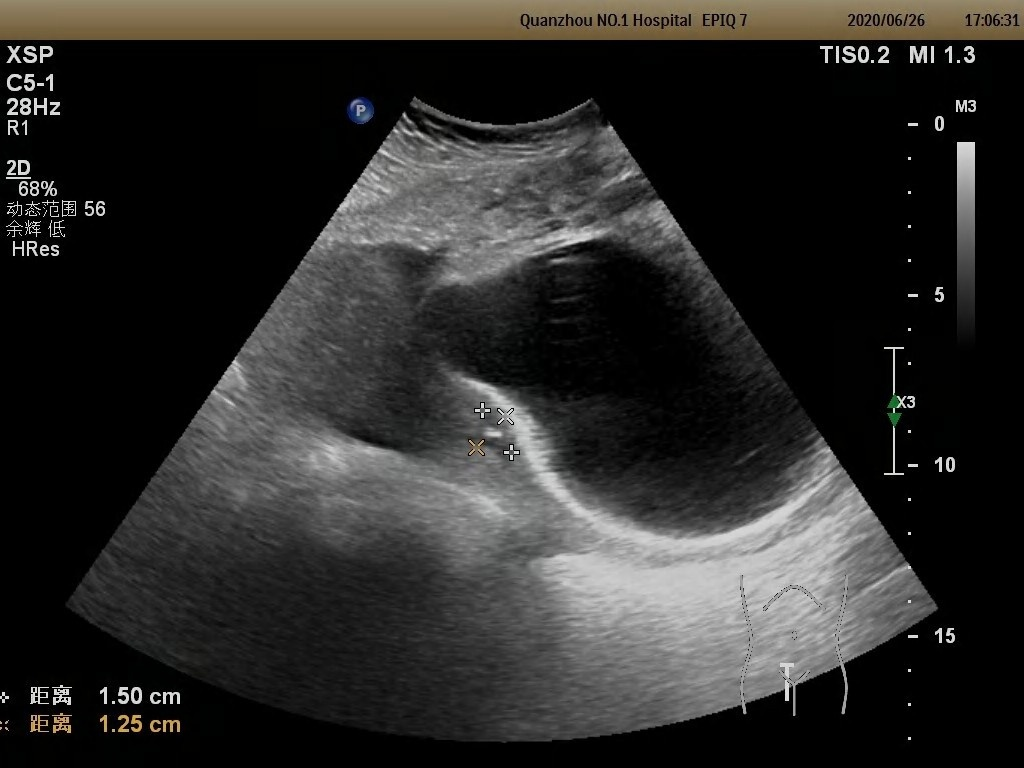肌瘤: (487, 415, 512, 452)
